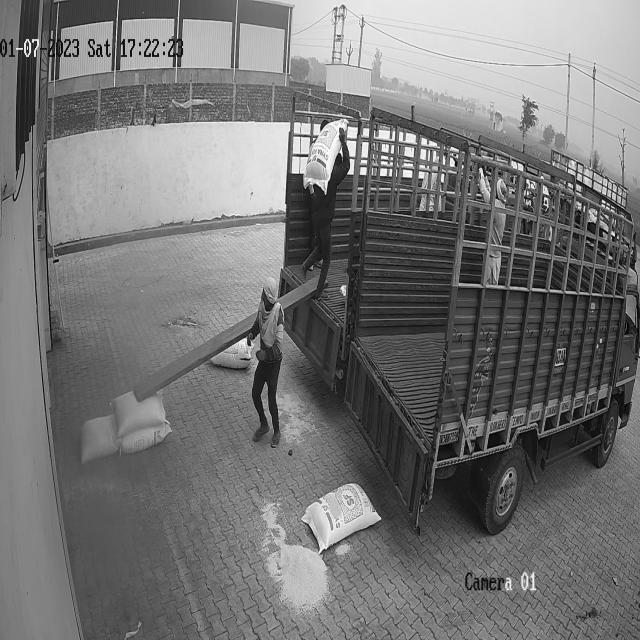sack: (302, 483, 382, 553), (303, 119, 349, 194), (112, 391, 165, 436), (79, 414, 117, 462), (120, 424, 171, 454), (210, 336, 254, 368)
